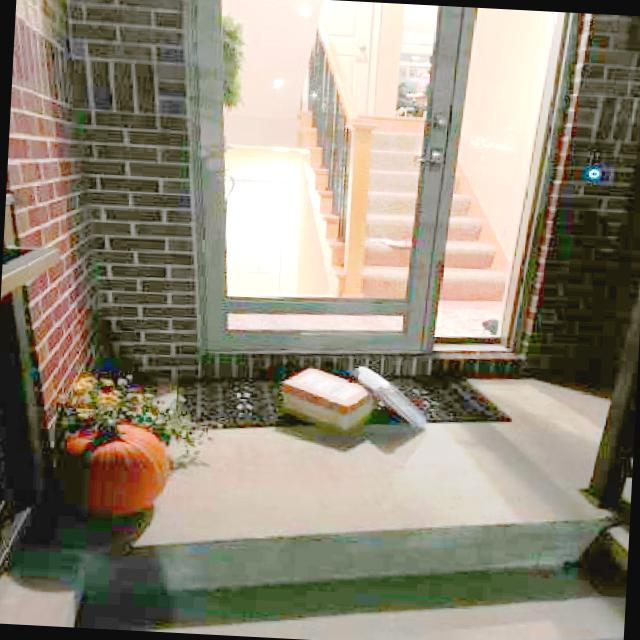Box: (280, 368, 374, 433), (350, 366, 430, 431)
